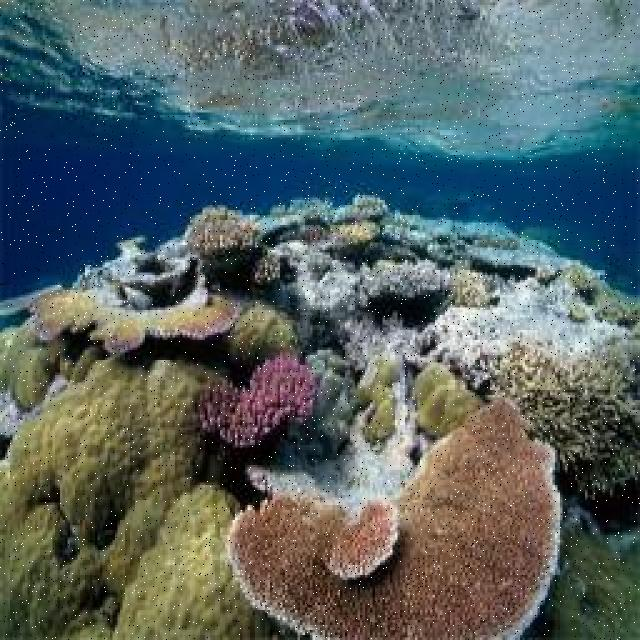reefs: (0, 295, 298, 638), (227, 398, 564, 638), (481, 259, 638, 502), (30, 239, 235, 354), (199, 349, 315, 446), (184, 205, 280, 285)
